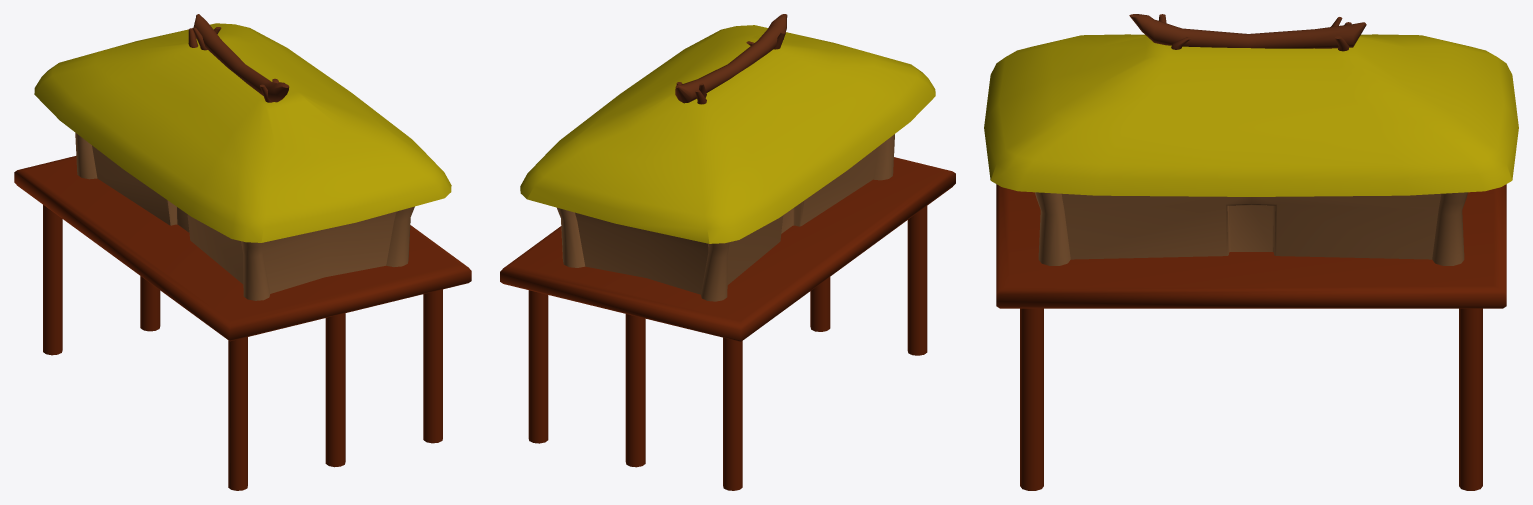
File: House.fbx
3 renders of one model, left to right at view 1: azimuth 30°, elevation 25°; view 2: azimuth 150°, elevation 25°; view 3: azimuth 270°, elevation 25°, orthographic. The views are drawn at different scales.
Visible parts, largest first — view 1: Roof, Stuts, Walls, Roof_logs; view 2: Roof, Stuts, Walls, Roof_logs; view 3: Roof, Stuts, Walls, Roof_logs.
Boxes of the visible parts, x1,y1,x2,y2 form: Roof: [34, 23, 451, 242]; Stuts: [14, 156, 471, 490]; Walls: [75, 133, 414, 300]; Roof_logs: [188, 14, 289, 102]; Roof: [520, 25, 935, 243]; Stuts: [500, 157, 955, 490]; Walls: [557, 134, 894, 301]; Roof_logs: [675, 14, 787, 104]; Roof: [984, 34, 1518, 196]; Stuts: [996, 184, 1506, 490]; Walls: [1035, 192, 1467, 265]; Roof_logs: [1129, 14, 1366, 51].
Bounding box in the file's own units: 269 × 369 × 435.
